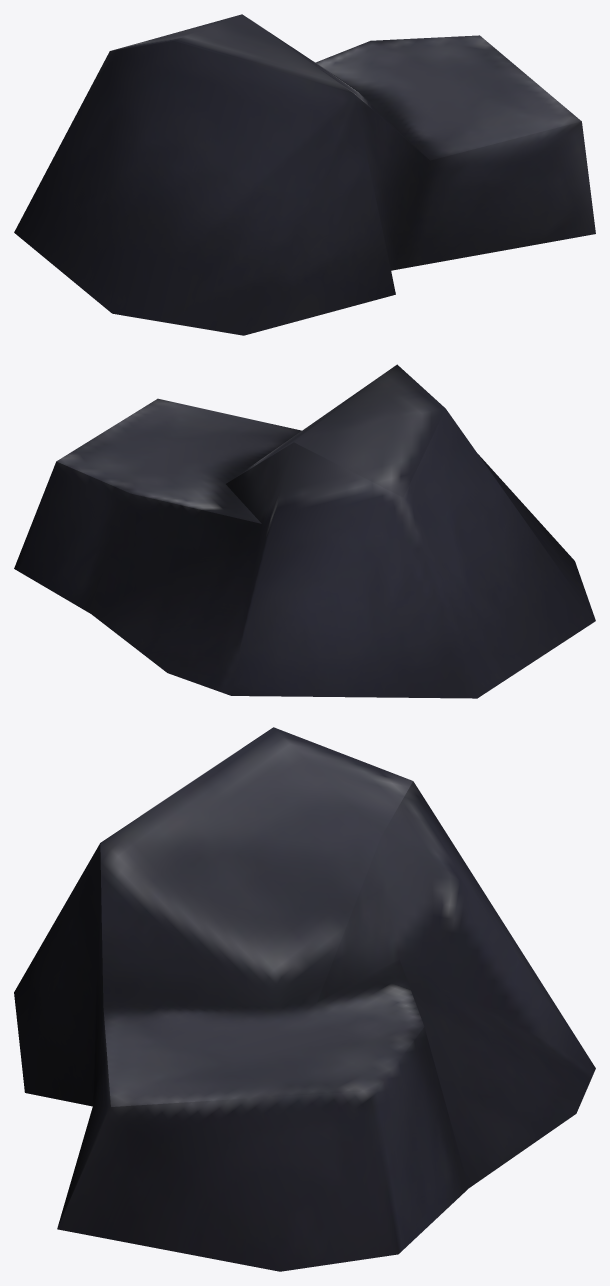
The model's file is Rock_B.fbx.
3 renders of one model, top to bottom at view 1: azimuth 30°, elevation 25°; view 2: azimuth 150°, elevation 25°; view 3: azimuth 270°, elevation 25°, orthographic. The views are drawn at different scales.
Parts seen in each view (by area): view 1: Rock_B; view 2: Rock_B; view 3: Rock_B.
Boxes of the visible parts, box(x1,y1,x2,y2) form: Rock_B: box(14, 14, 595, 335); Rock_B: box(14, 364, 595, 698); Rock_B: box(14, 727, 595, 1271).
Size of the model in its own units: 75.9 by 30.65 by 56.91.
Materials: 1 (1 with a texture image).
